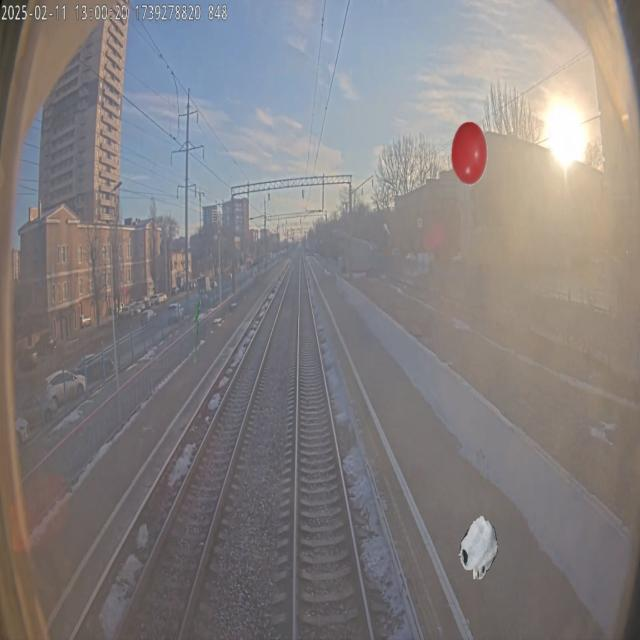balloon: (451, 121, 488, 186)
floating object: (193, 300, 200, 364)
plastic bag: (458, 515, 498, 579)
